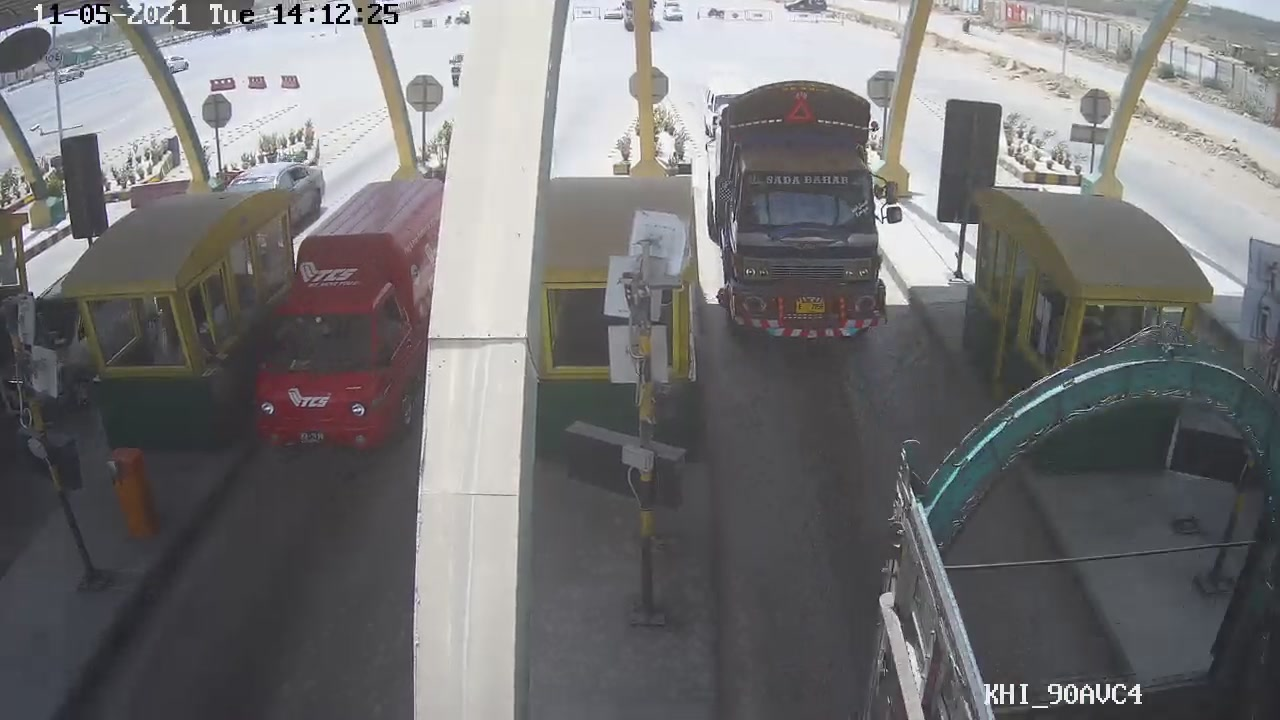F5: (700, 66, 918, 353)
